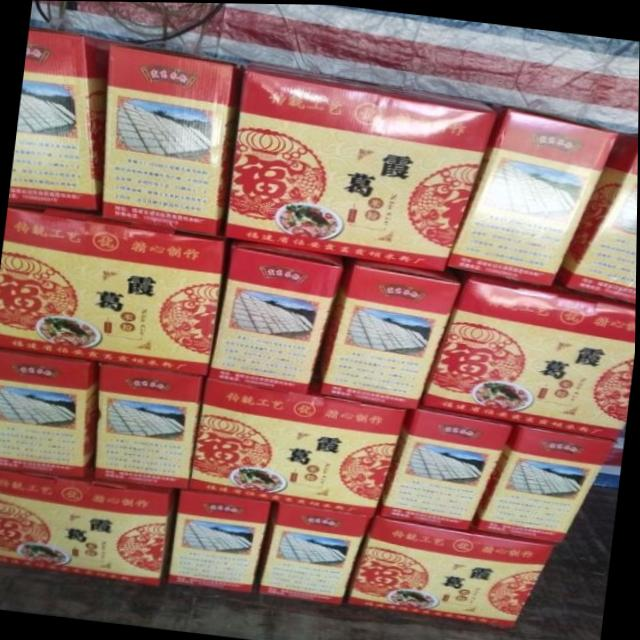box: (225, 61, 500, 271), (0, 207, 227, 375), (422, 272, 637, 438), (189, 372, 408, 515), (447, 103, 619, 284), (100, 42, 239, 236), (347, 514, 558, 627), (315, 258, 462, 408), (207, 240, 347, 392), (0, 467, 178, 586), (8, 25, 109, 210), (377, 404, 515, 529), (475, 422, 617, 542), (556, 131, 639, 301), (96, 362, 206, 488), (0, 349, 99, 477), (258, 501, 373, 604), (168, 489, 272, 593)
